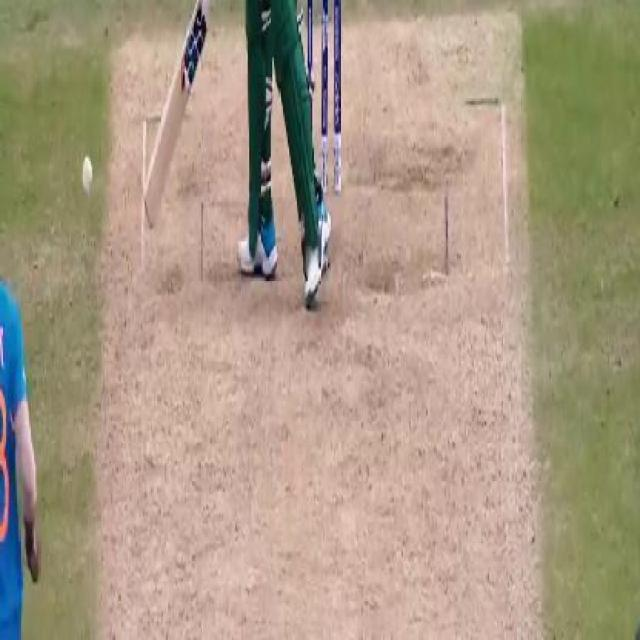Cricket ball: (80, 153, 98, 195)
